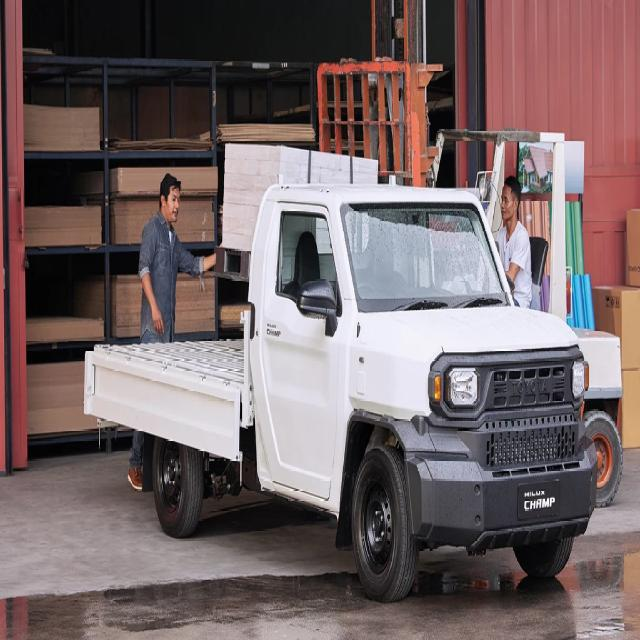CMT: (89, 182, 611, 605)
